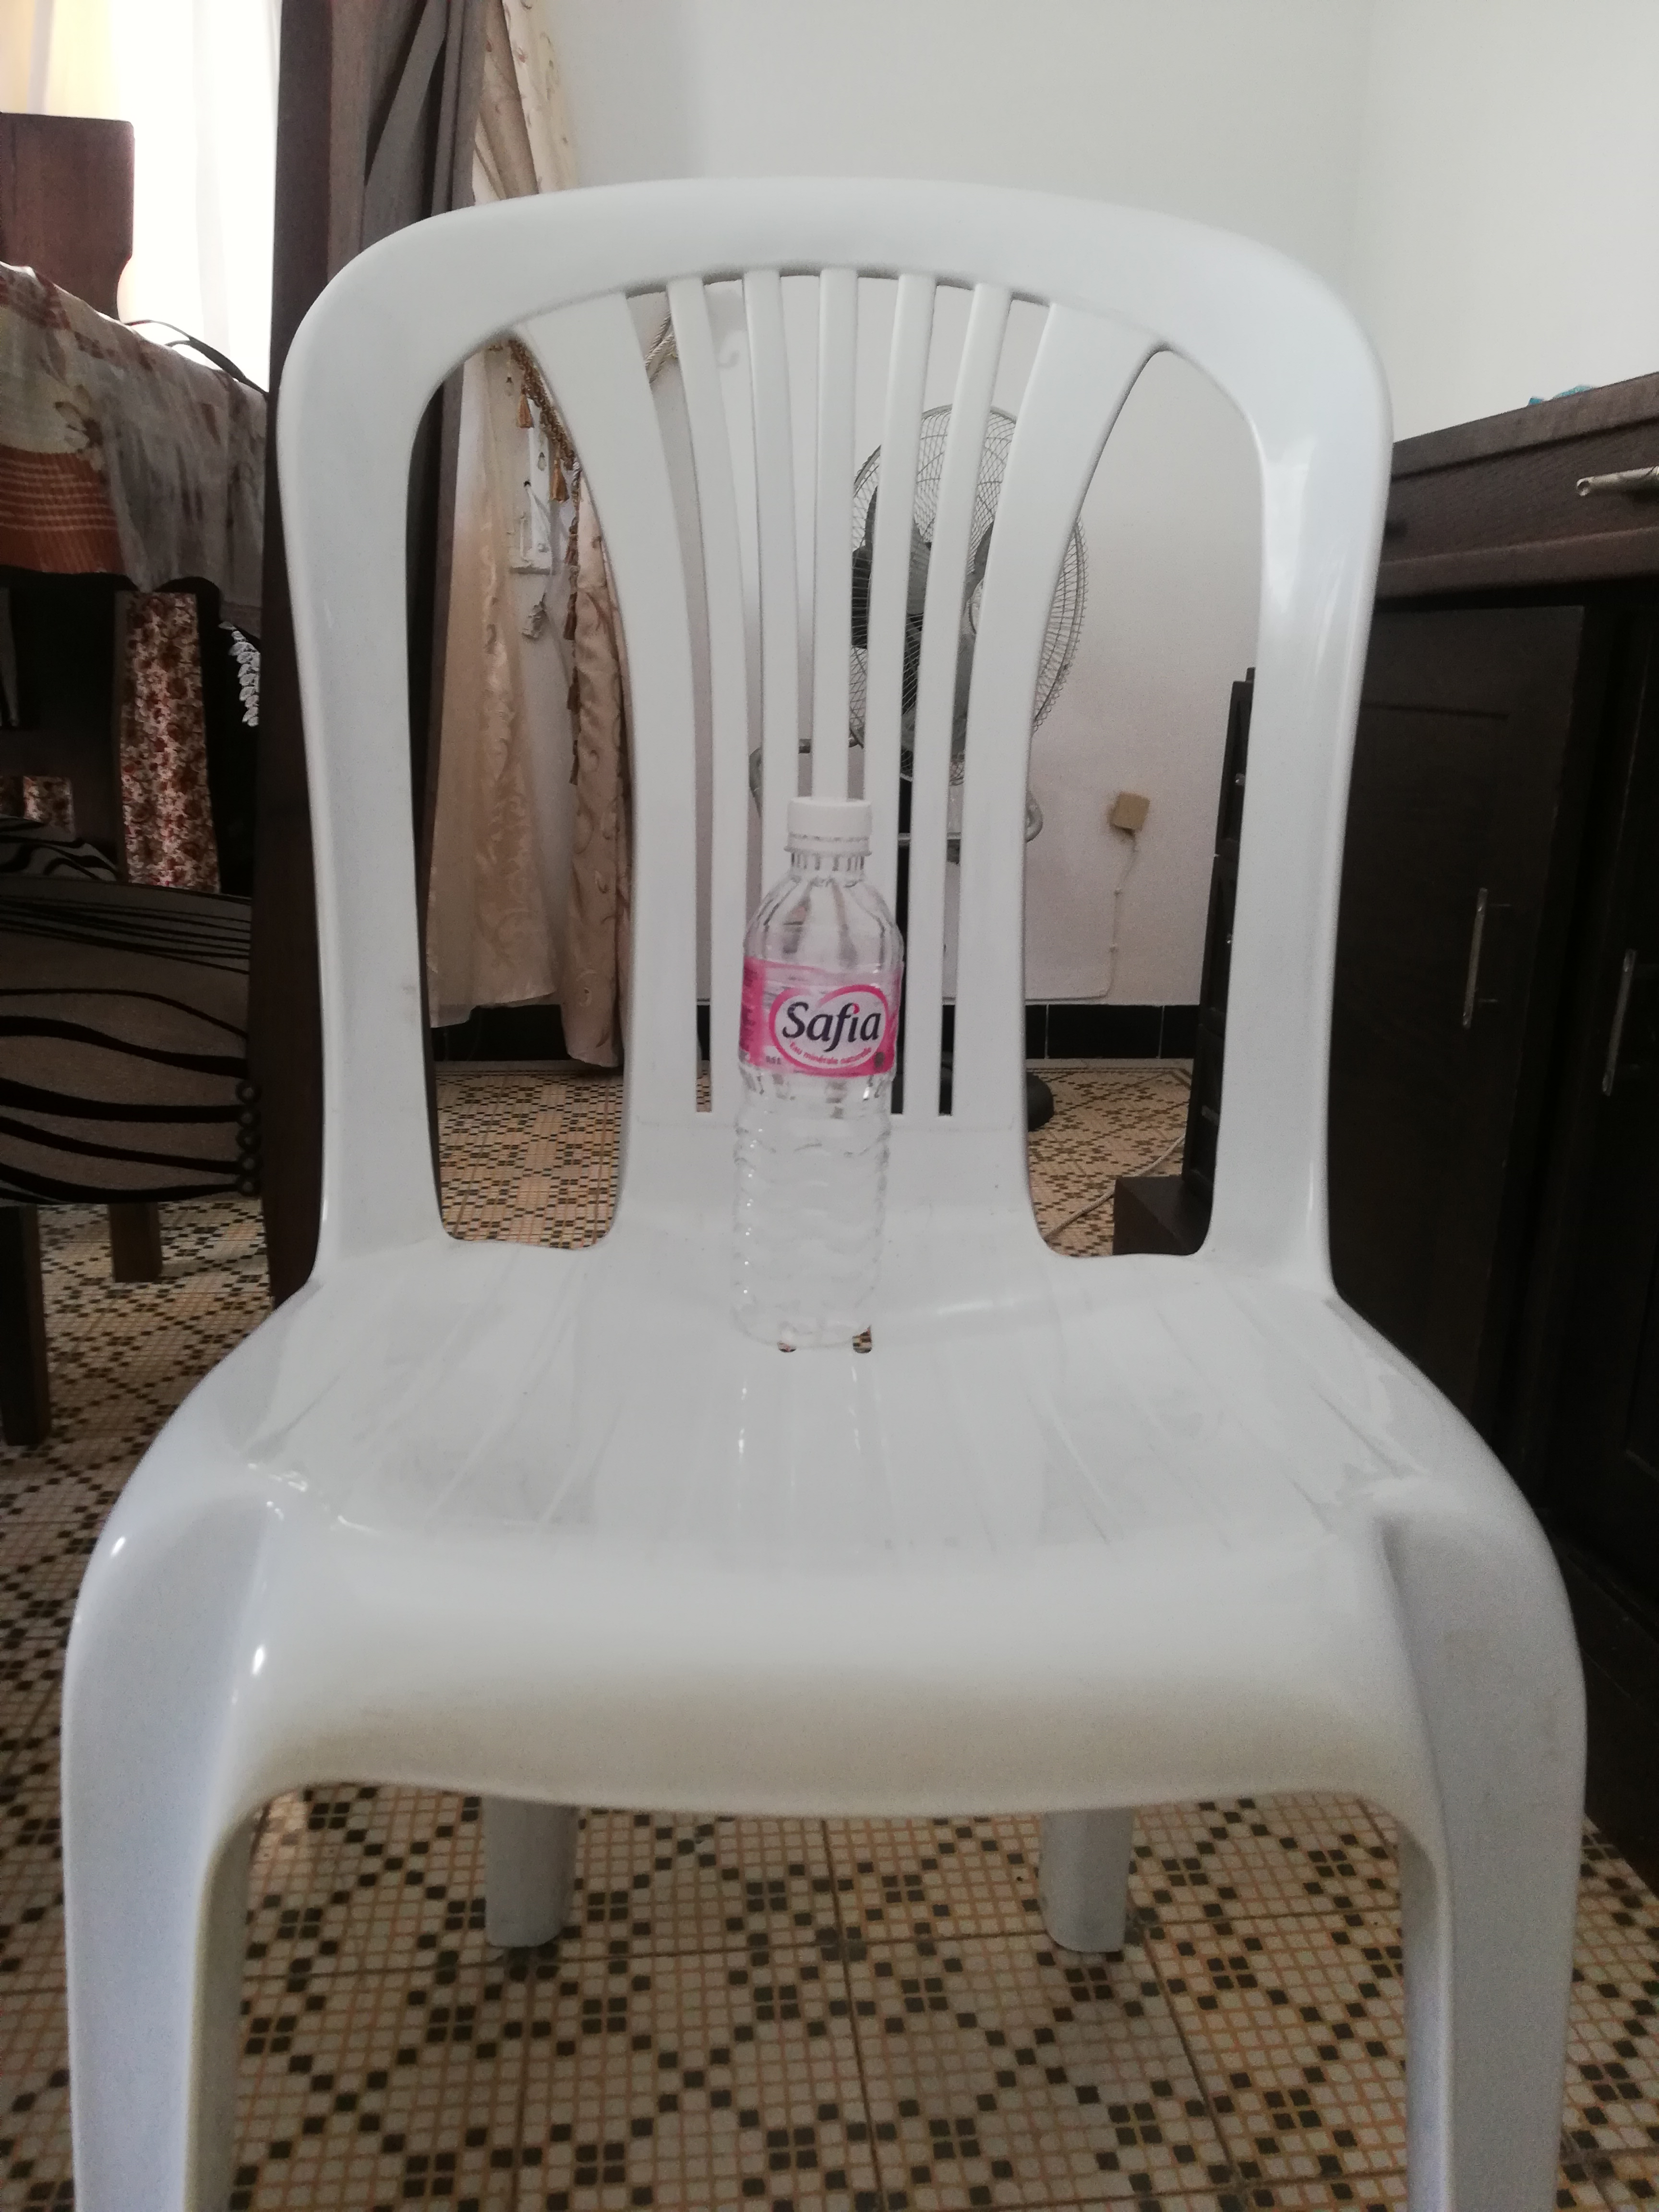Eau safia: (741, 808, 915, 1346)
